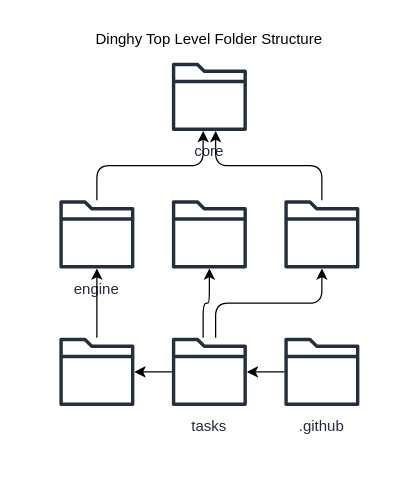
The diagram is 418 pixels wide and 493 high, and some of its shapes have lost their labels. Each missing label, with the centre of its shape:
cli: (x=96, y=371)
docker: (x=208, y=233)
sites: (x=321, y=233)
